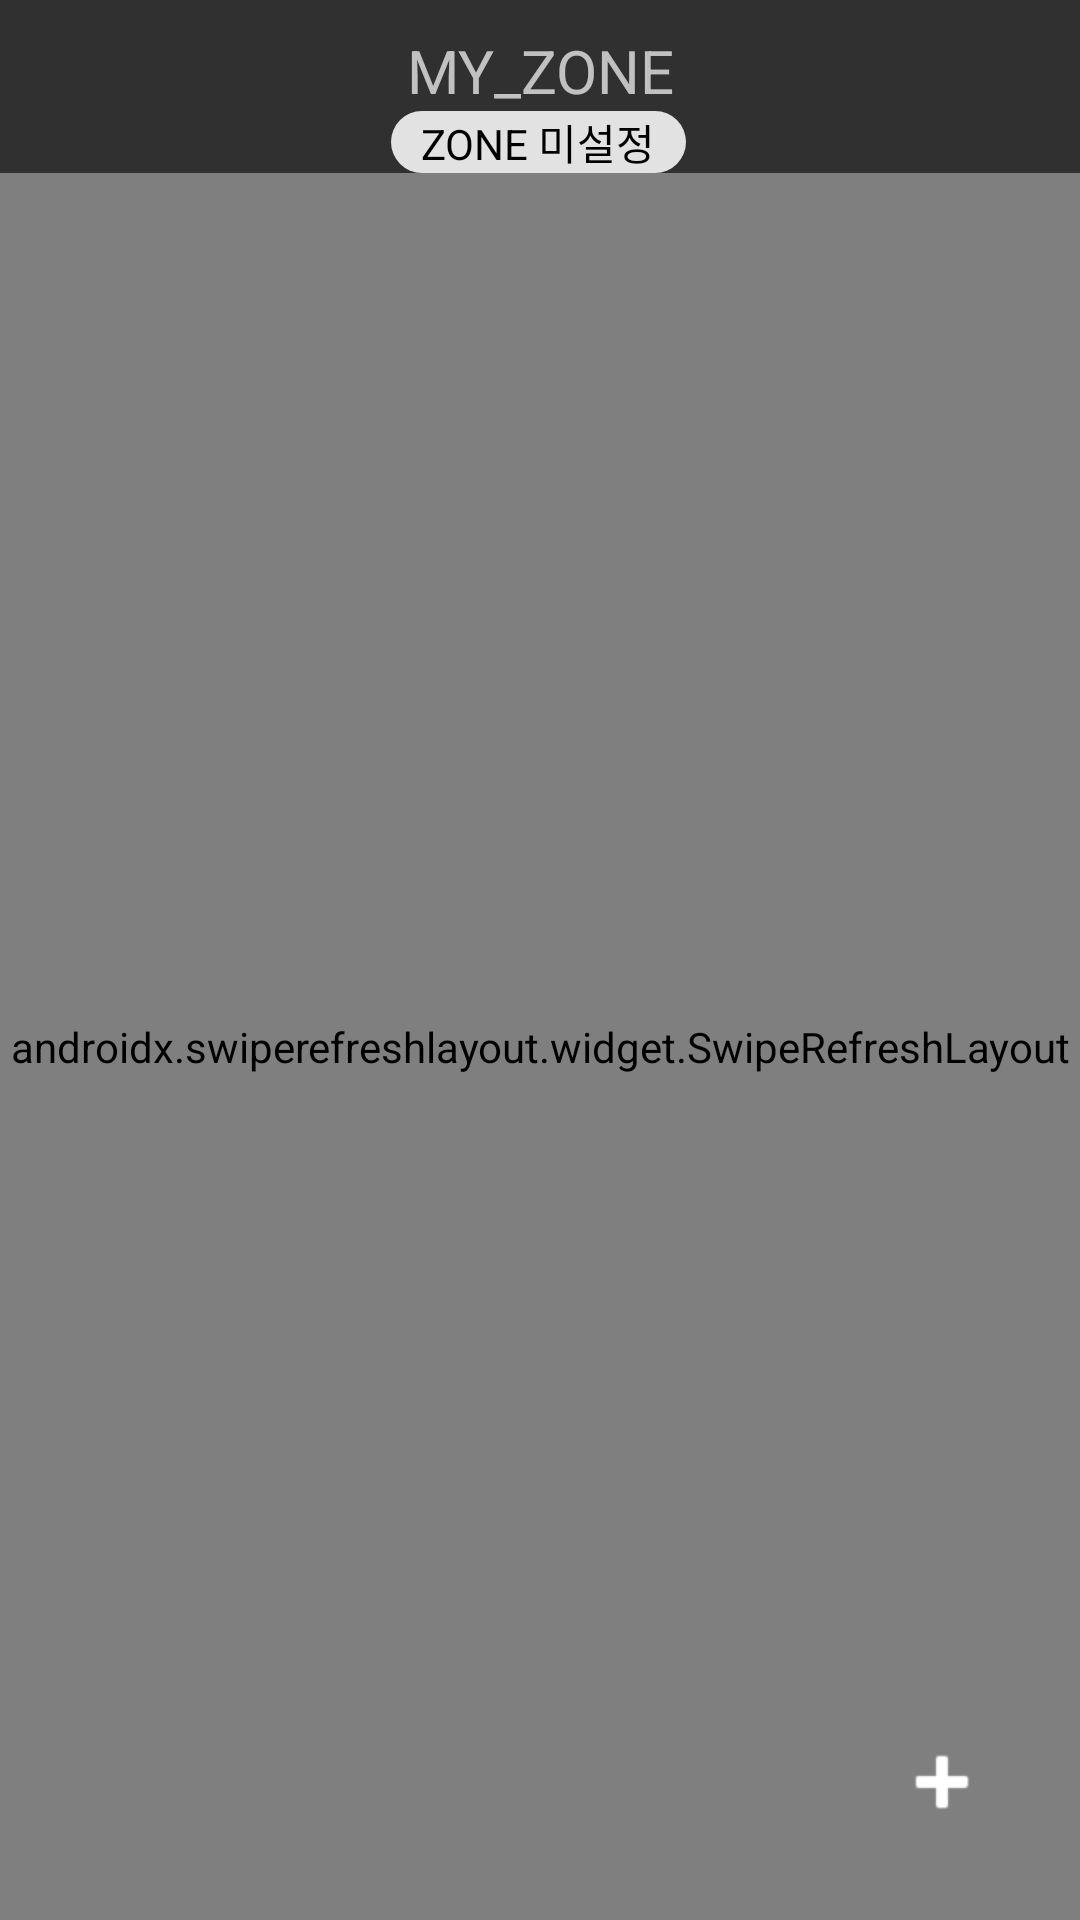

Screen size 1080 × 1920. Icon name, then its center in pixels as [x,y]:
add: [942,1782]
